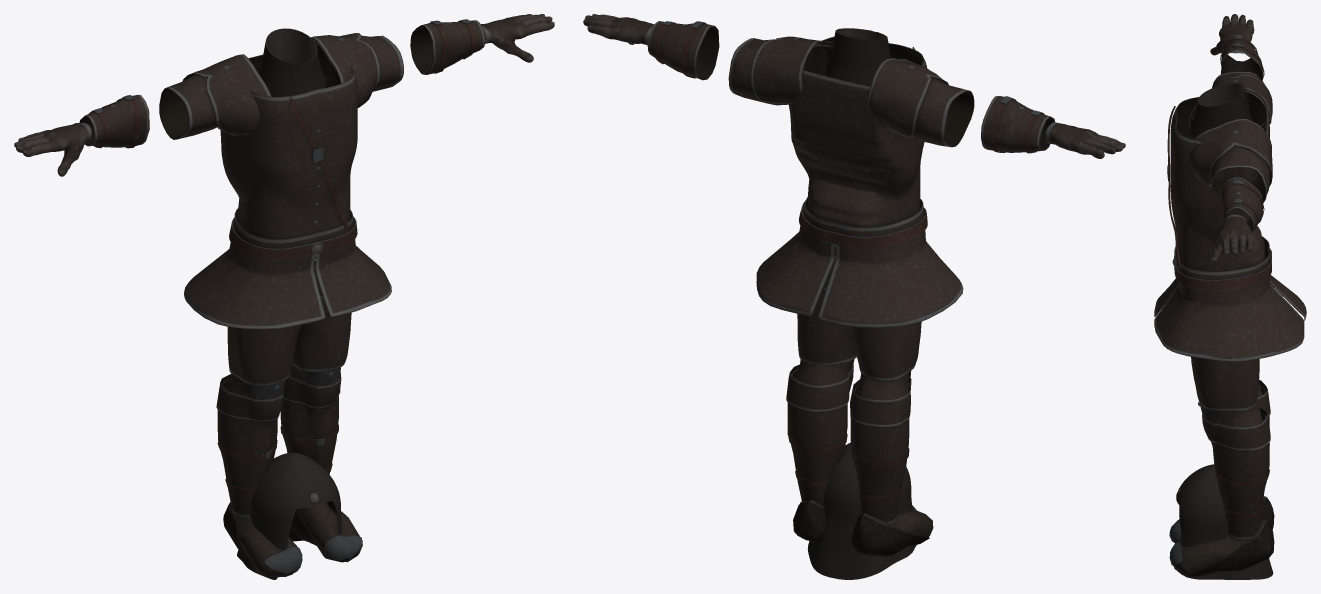
Rendered from light_ashforged.glb.
3 renders of one model, left to right at view 1: azimuth 30°, elevation 25°; view 2: azimuth 150°, elevation 25°; view 3: azimuth 270°, elevation 25°, orthographic. The views are drawn at different scales.
Visible parts, largest first — view 1: chest, feet, gloves, legs, hood; view 2: chest, feet, gloves, legs, hood; view 3: chest, feet, gloves, legs, hood.
Part boxes in pixels (<box>): chest: <box>159,28,403,328</box>; feet: <box>216,373,362,577</box>; gloves: <box>14,14,554,176</box>; legs: <box>225,261,351,399</box>; hood: <box>237,452,347,579</box>; chest: <box>728,28,974,327</box>; feet: <box>786,364,933,556</box>; gloves: <box>583,14,1125,158</box>; legs: <box>795,249,921,399</box>; hood: <box>807,442,916,579</box>; chest: <box>1154,71,1306,361</box>; feet: <box>1169,380,1274,576</box>; gloves: <box>1210,14,1264,262</box>; legs: <box>1191,357,1262,426</box>; hood: <box>1176,464,1273,579</box>.
Bounding box in the file's own units: 1.8 × 1.7 × 0.4879.
Materials: 5 (5 with a texture image).
